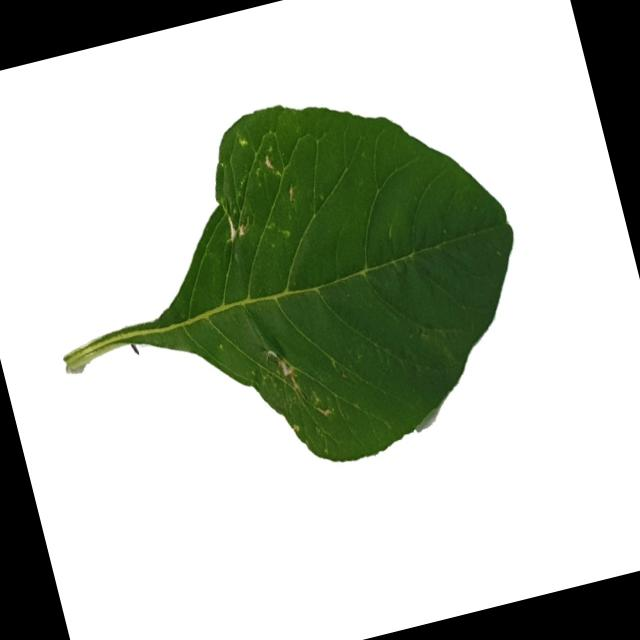Medicinal-Arive Dantu: (21, 58, 560, 523)
